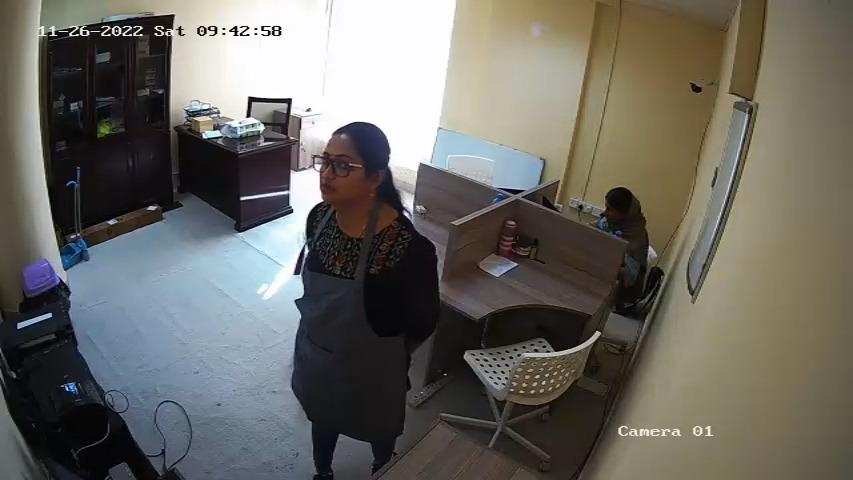apron: (295, 211, 407, 424)
